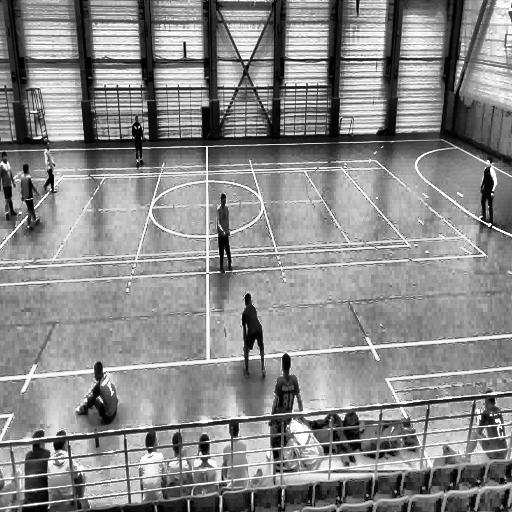player: (77, 360, 117, 443), (241, 292, 266, 381), (20, 162, 41, 231), (216, 193, 233, 275), (478, 156, 497, 226), (0, 151, 18, 221), (42, 136, 59, 195), (132, 118, 146, 168)
